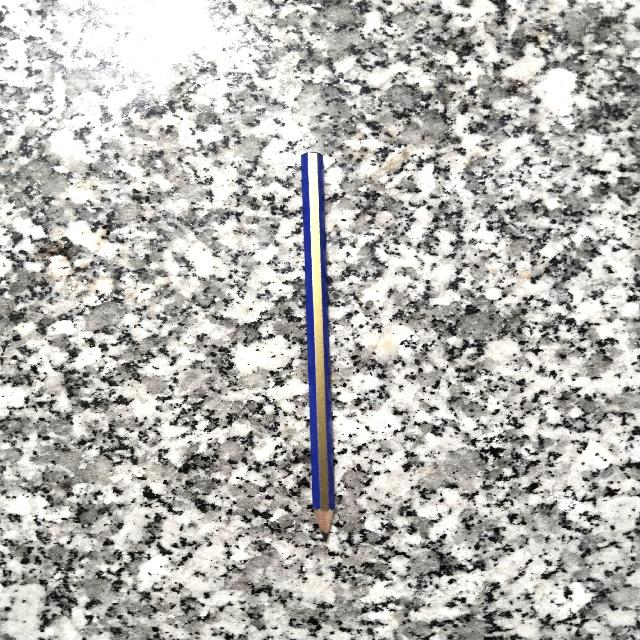pencil: (302, 152, 334, 538)
